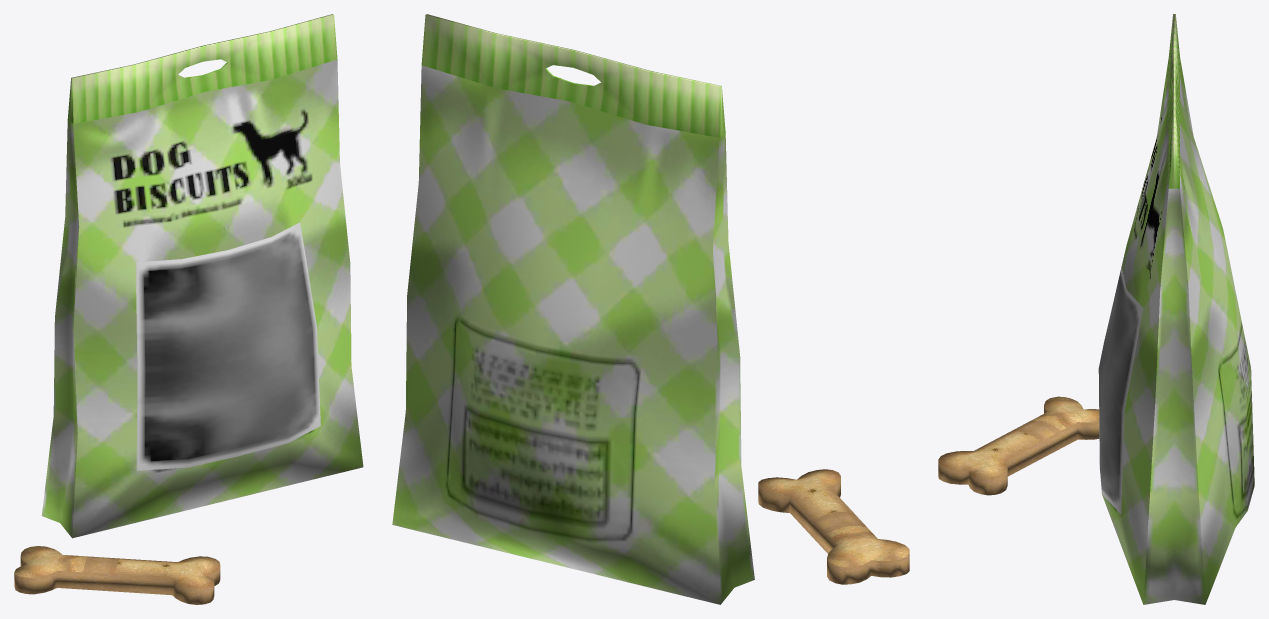
Rendered from F2_Item_Snack_Bone_S.dae.
3 views of the same model, side by side, from view 1: azimuth 30°, elevation 25°; view 2: azimuth 150°, elevation 25°; view 3: azimuth 270°, elevation 25° (orthographic). The views are drawn at different scales.
Visible parts, largest first — view 1: _1_0_node, _2_0_node, _0_0_node; view 2: _1_0_node, _0_0_node; view 3: _1_0_node, _0_0_node, _2_0_node.
Part boxes in pixels (<box>): _1_0_node: <box>41,14,363,538</box>; _2_0_node: <box>135,222,320,470</box>; _0_0_node: <box>14,546,220,604</box>; _1_0_node: <box>392,14,754,604</box>; _0_0_node: <box>758,469,909,584</box>; _1_0_node: <box>1102,14,1254,604</box>; _0_0_node: <box>938,396,1099,495</box>; _2_0_node: <box>1098,254,1143,514</box>.
Size of the model in its own units: 0.9981 by 1.1 by 0.6941.
Materials: 3 (3 with a texture image).
